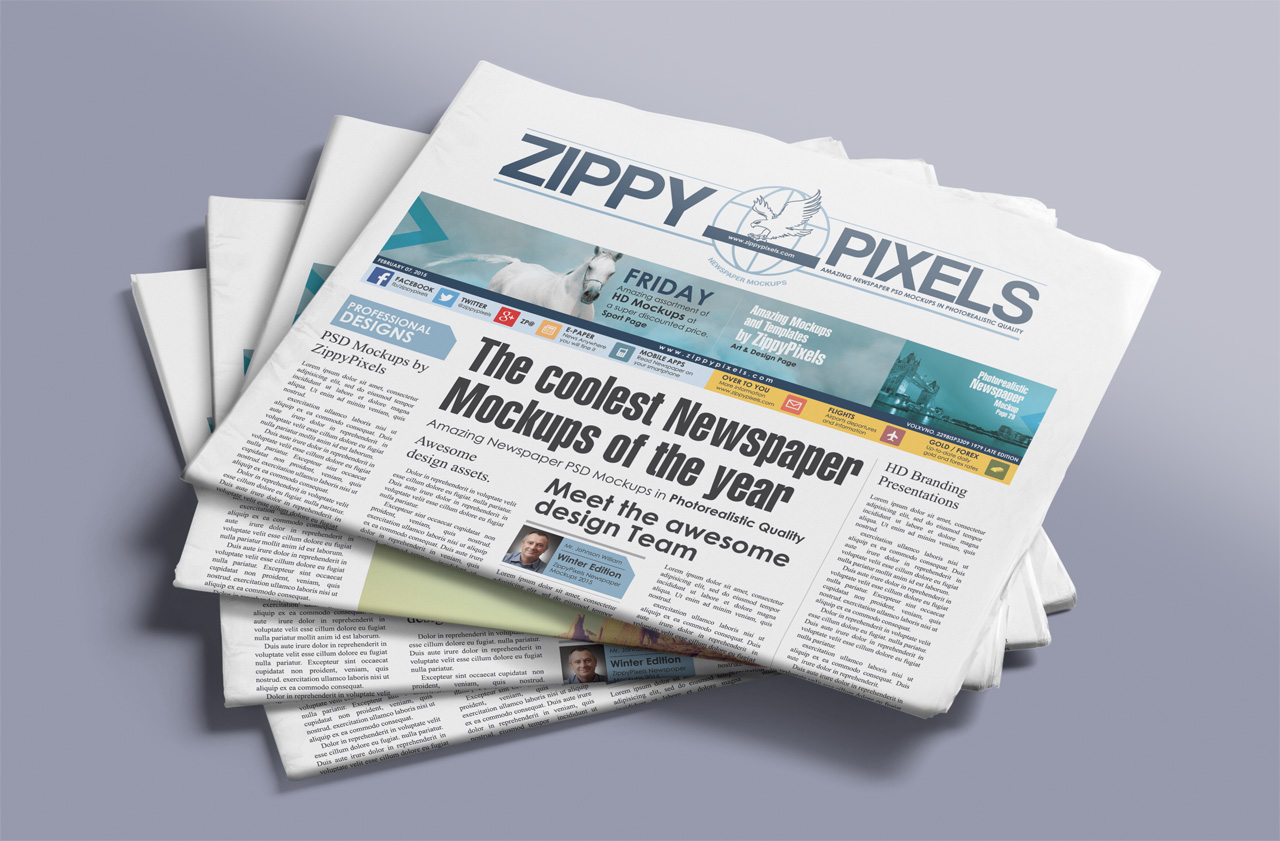Rec_Paper: (15, 43, 1203, 774)
